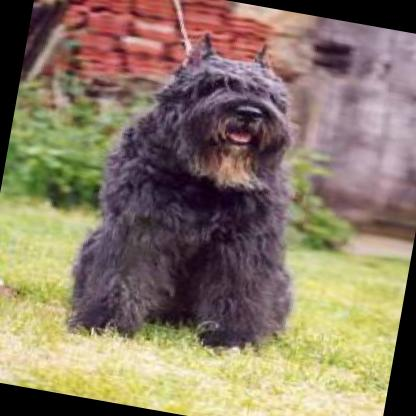Bouvier_des_Flandres: (59, 16, 342, 367)
